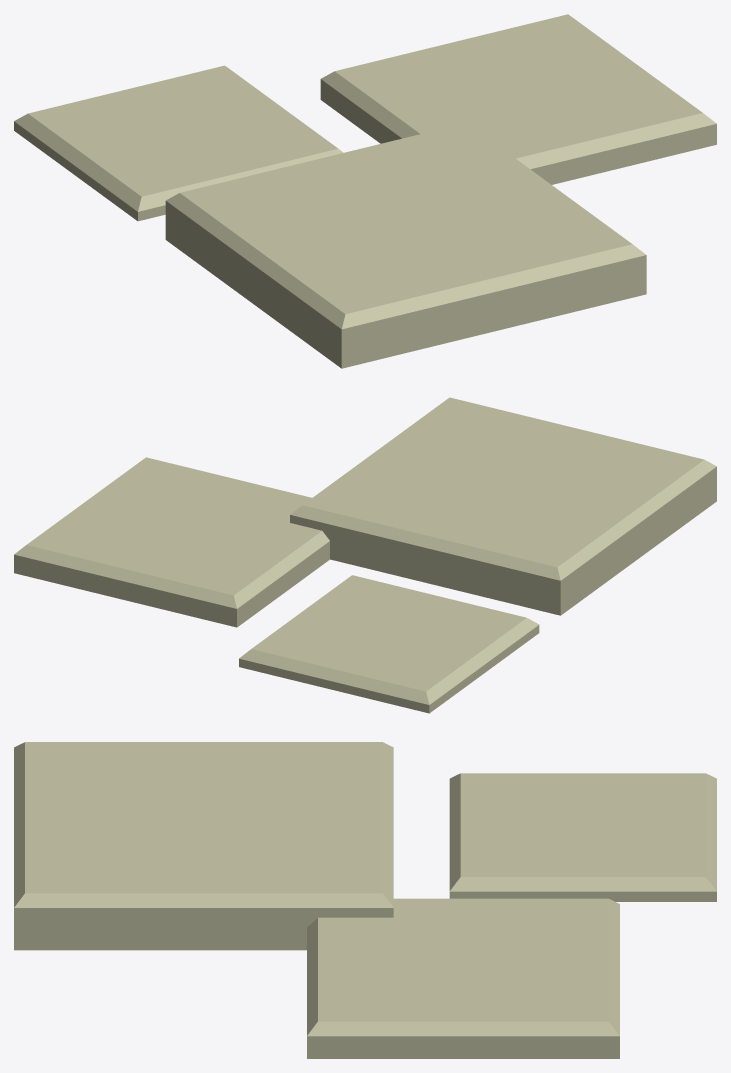
Rendered from Path4.fbx.
3 renders of one model, top to bottom at view 1: azimuth 30°, elevation 25°; view 2: azimuth 150°, elevation 25°; view 3: azimuth 270°, elevation 25°, orthographic. The views are drawn at different scales.
Visible parts, largest first — view 1: Path4; view 2: Path4; view 3: Path4.
Part boxes in pixels (x1,y1,x2,y2): Path4: (14,14,716,368); Path4: (14,397,716,713); Path4: (14,742,716,1058).
Bounding box in the file's own units: 301 × 27.23 × 331.
